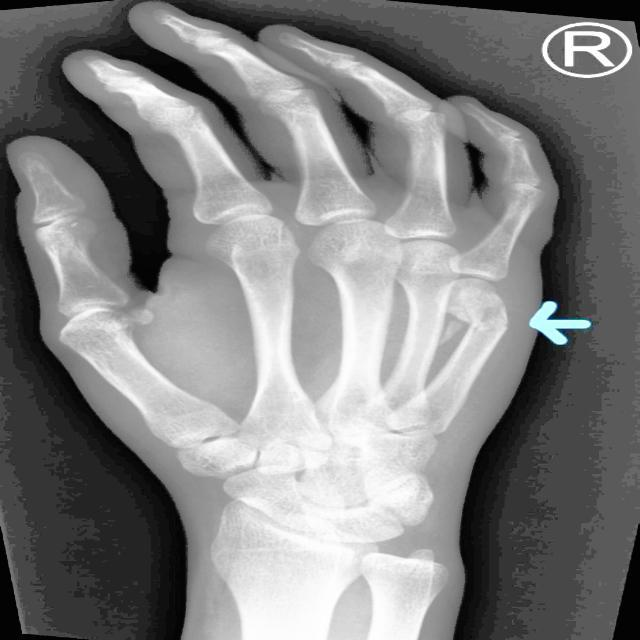Impact Fracture: (449, 276, 513, 339)
